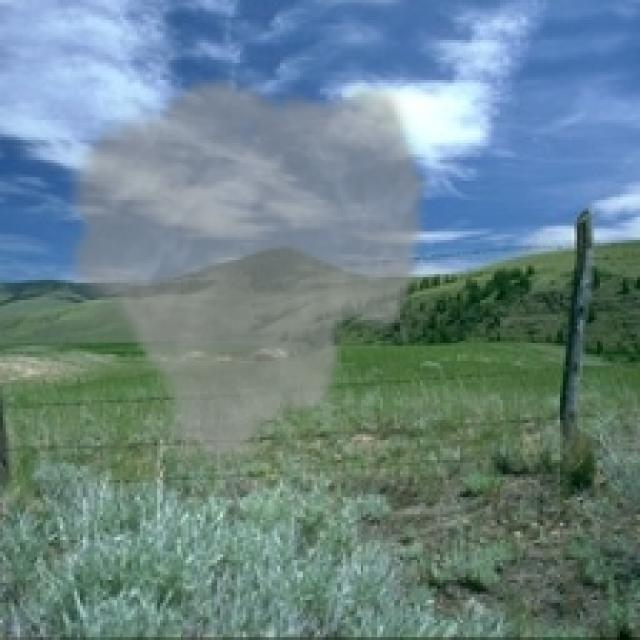Smoke: (57, 72, 434, 474)
